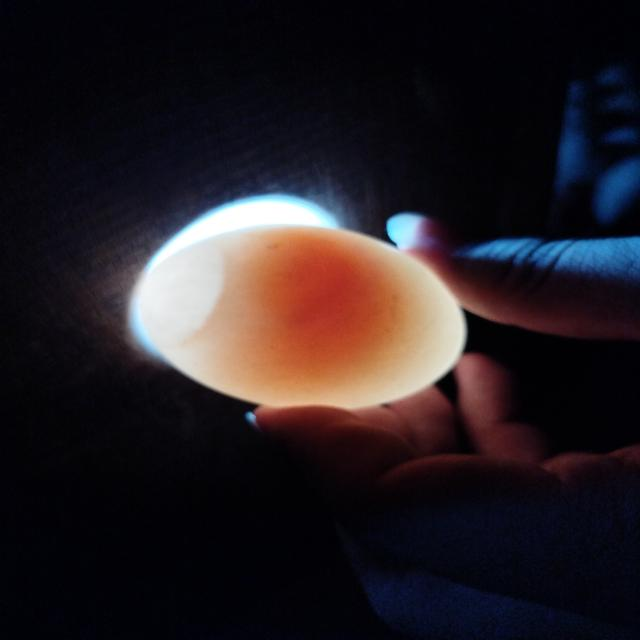Camara de Ar: (141, 241, 224, 348)
Gema Quebrada: (263, 228, 401, 384)
